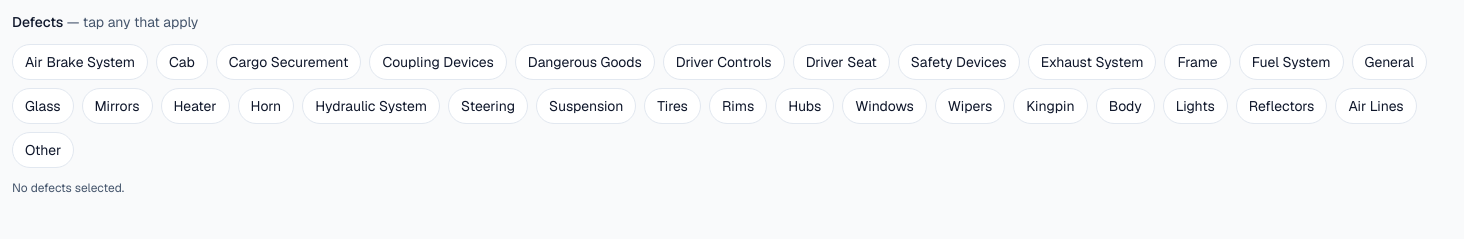
DefectPicker › toggles defects on and off
Expected: the text "No defects selected." is shown, [12,180,124,196]
Click the button "Horn" at coordinates (266, 106), box [238,88,294,124]
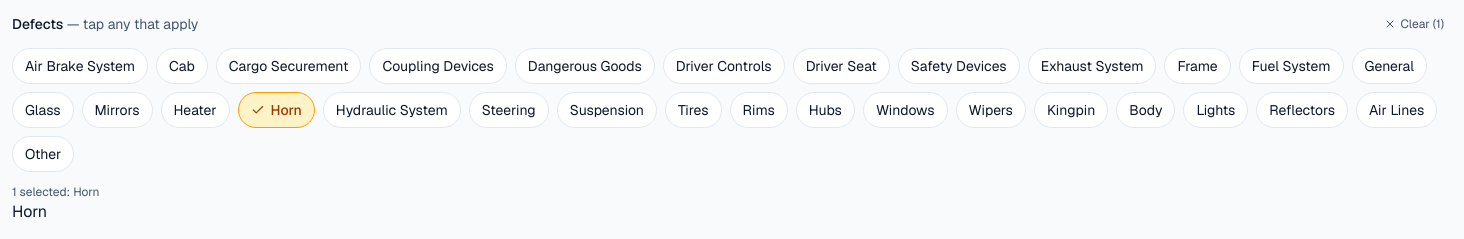
Click the button "Cab" at coordinates (182, 66), box [156,48,208,84]
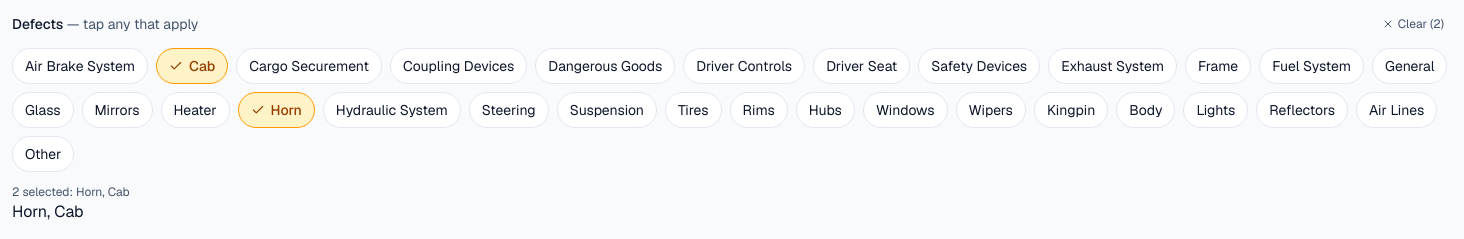
Expected: the text "Horn, Cab" is shown, [12,201,84,222]
Expected: the text "2 selected: Horn, Cab" is shown, [12,184,130,200]
Click the button "Horn" at coordinates (276, 110), box [238,92,315,128]
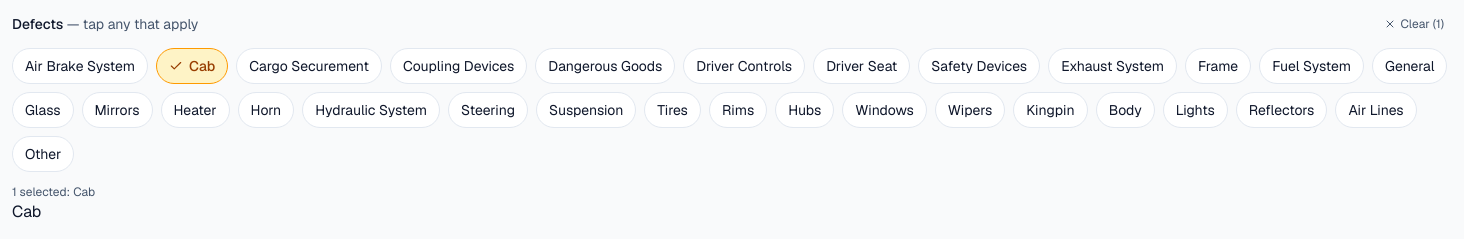
Expected: the text "Cab" is shown, [12,201,41,222]
